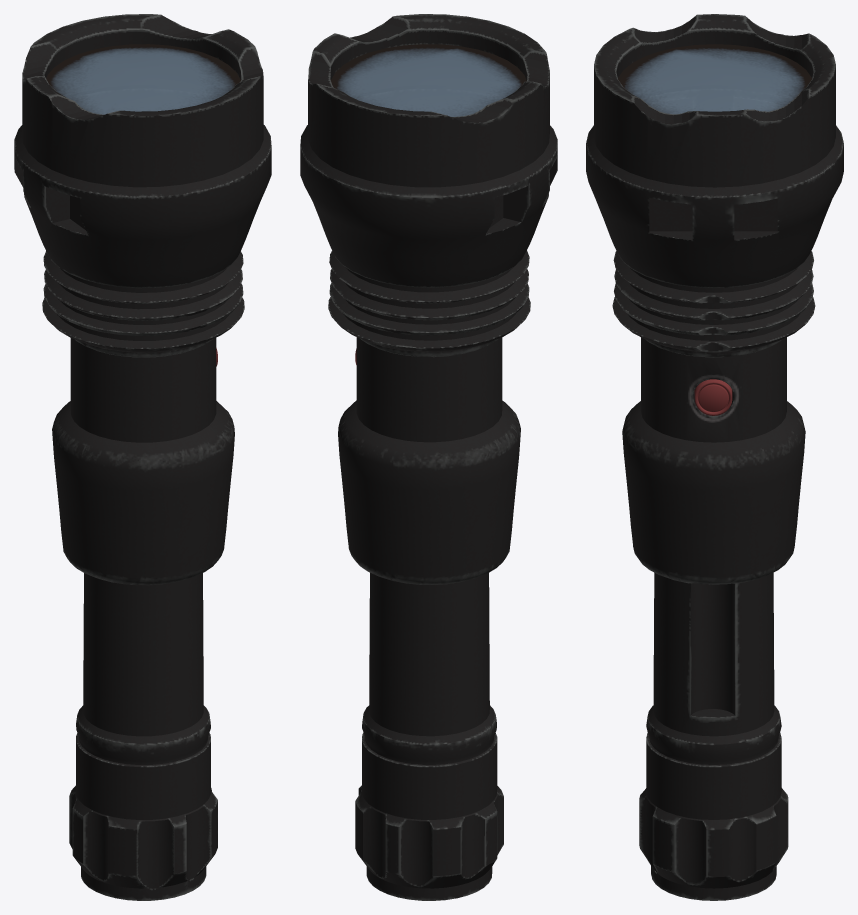
File: Flashlight.fbx
3 renders of one model, left to right at view 1: azimuth 30°, elevation 25°; view 2: azimuth 150°, elevation 25°; view 3: azimuth 270°, elevation 25°, orthographic.
Parts seen in each view (by area): view 1: Cylinder, Top, Mirror; view 2: Cylinder, Top, Mirror; view 3: Cylinder, Top, Mirror, Button.
Boxes of the visible parts, <box> form: Cylinder: <box>14,86,271,900</box>; Top: <box>22,14,263,187</box>; Mirror: <box>46,44,240,114</box>; Cylinder: <box>300,86,557,900</box>; Top: <box>308,14,549,187</box>; Mirror: <box>331,44,526,116</box>; Cylinder: <box>586,86,843,900</box>; Top: <box>594,14,835,187</box>; Mirror: <box>618,44,811,114</box>; Button: <box>694,379,732,415</box>.
Size of the model in its own units: 135 by 472 by 135.
